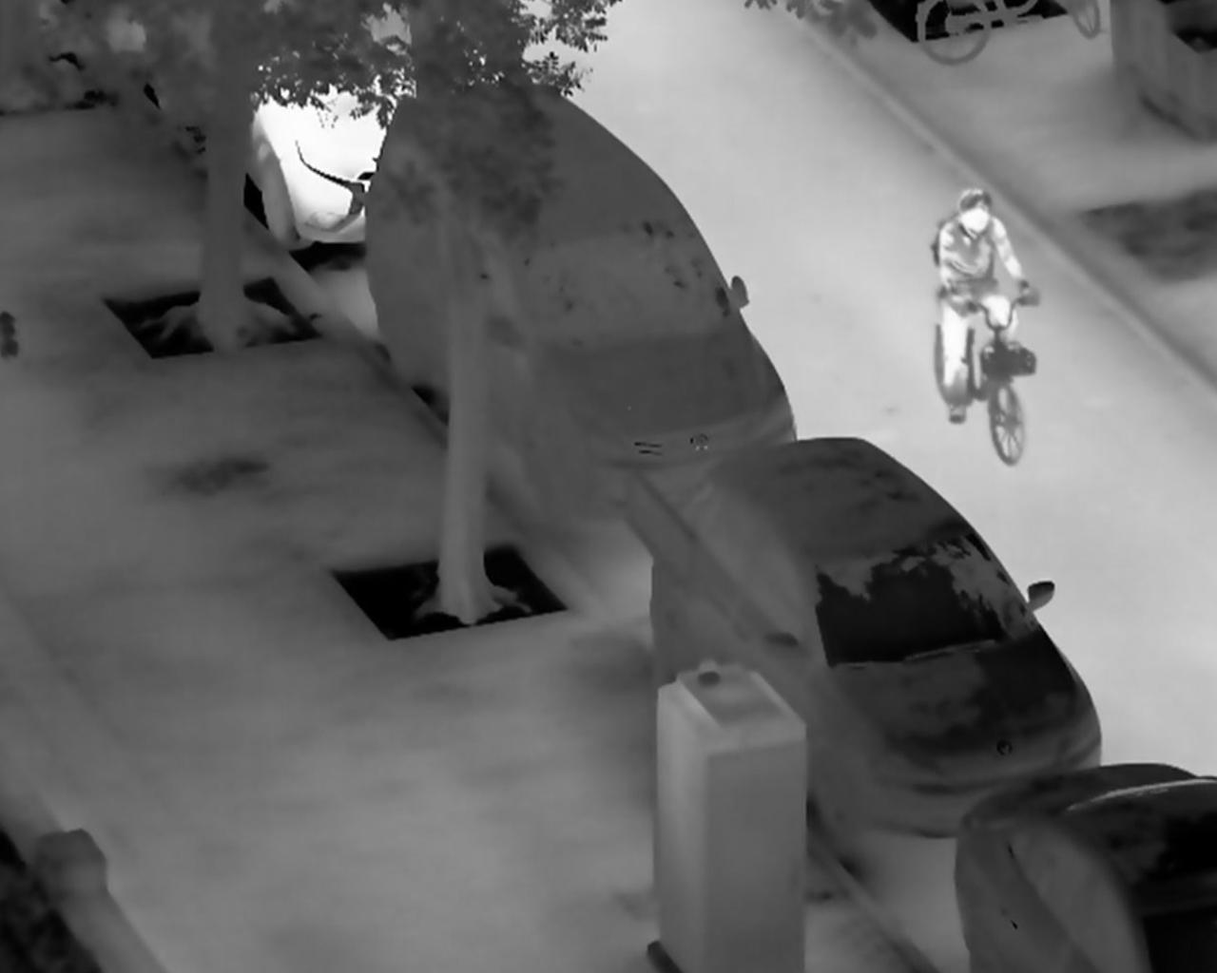person: (933, 185, 1047, 429)
